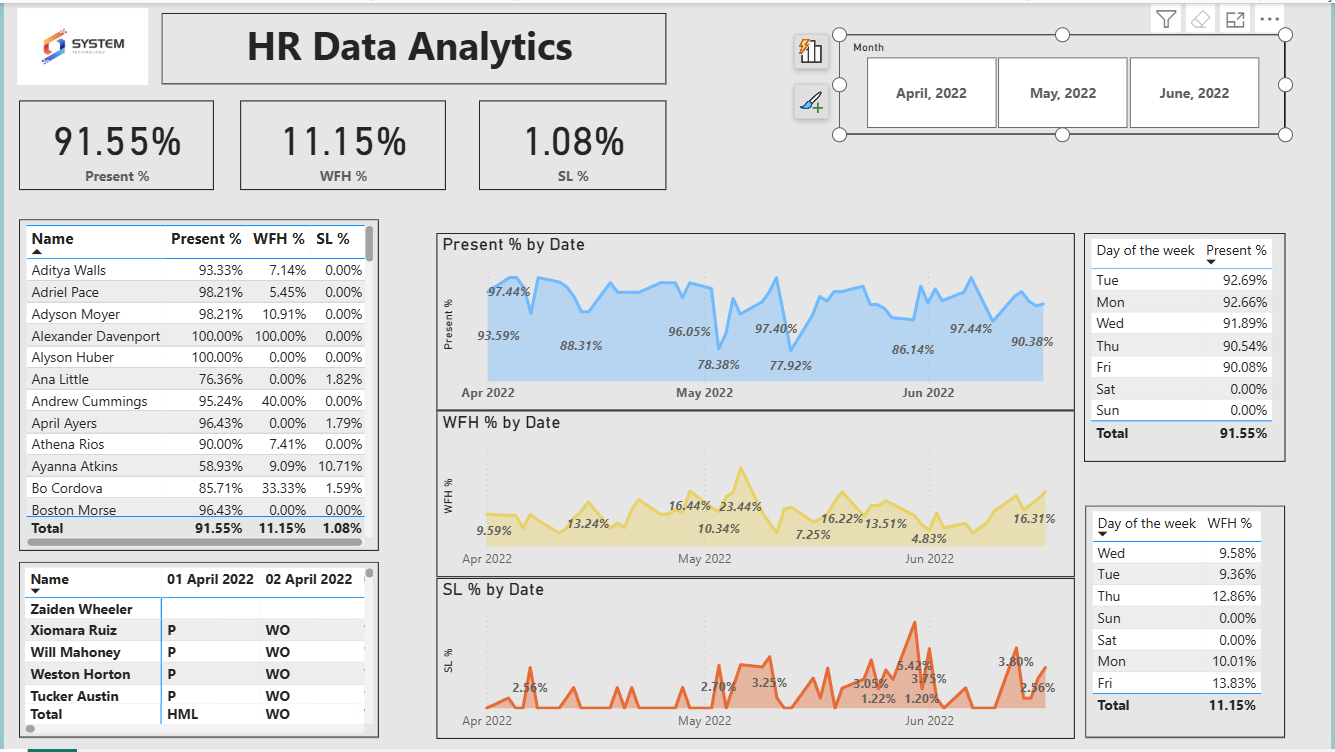

Layout of this report page (visuals, bound fields, positions):
{"tool":"powerbi","page":{"name":"Page 1","canvas":[1280,720],"ordinal":0},"visuals":[{"type":"card","fields":{"Values":["Measure Tabe.Present %"]},"box":[14.7,94.1,188.3,86.8],"z":0},{"type":"slicer","fields":{"Values":["Combined Data.Month"]},"box":[805.6,30.2,430.6,96.5],"z":1000},{"type":"card","fields":{"Values":["Measure Tabe.WFH %"]},"box":[228.6,94.1,198,86.8],"z":2000},{"type":"card","fields":{"Values":["Measure Tabe.SL %"]},"box":[458.4,94.1,180.9,86.8],"z":3000},{"type":"tableEx","fields":{"Values":["Combined Data.Name","Measure Tabe.Present %","Measure Tabe.WFH %","Measure Tabe.SL %"]},"box":[14.7,209,347.2,320.3],"z":4000},{"type":"pivotTable","fields":{"Columns":["Combined Data.Date"],"Rows":["Combined Data.Name"],"Values":["Min(Combined Data.Value)"]},"box":[14.7,539.1,347.2,169.9],"z":5000},{"type":"stackedAreaChart","fields":{"Category":["Combined Data.Date"],"Y":["Measure Tabe.Present %"]},"box":[417.2,222.3,616.1,171.5],"z":6000},{"type":"stackedAreaChart","fields":{"Category":["Combined Data.Date"],"Y":["Measure Tabe.WFH %"]},"box":[417.2,393.8,616.1,160.5],"z":7000},{"type":"stackedAreaChart","fields":{"Category":["Combined Data.Date"],"Y":["Measure Tabe.SL %"]},"box":[417.2,554.4,616.1,155.1],"z":8000},{"type":"tableEx","fields":{"Values":["Combined Data.Day of the week","Measure Tabe.Present %"]},"box":[1042,221.9,194.2,220.7],"z":9000},{"type":"tableEx","fields":{"Values":["Combined Data.Day of the week","Measure Tabe.WFH %"]},"box":[1043.2,484.8,193,224.3],"z":10000},{"type":"textbox","box":[152,9.6,487.2,68.7],"z":11000},{"type":"image","box":[0,0,152,84.4],"z":12000}]}

Visuals, with their boxes in screenshot pixels (x1, y1, x2, y2), scaled from the page's 1280x720 canvas onto the 1335x752 screenshot:
card - Measure Tabe.Present %: x1=15, y1=98, x2=212, y2=189
slicer - Combined Data.Month: x1=840, y1=32, x2=1289, y2=132
card - Measure Tabe.WFH %: x1=238, y1=98, x2=445, y2=189
card - Measure Tabe.SL %: x1=478, y1=98, x2=667, y2=189
tableEx - Combined Data.Name x Measure Tabe.Present %: x1=15, y1=218, x2=377, y2=553
pivotTable - Combined Data.Date x Combined Data.Name: x1=15, y1=563, x2=377, y2=741
stackedAreaChart - Combined Data.Date x Measure Tabe.Present %: x1=435, y1=232, x2=1078, y2=411
stackedAreaChart - Combined Data.Date x Measure Tabe.WFH %: x1=435, y1=411, x2=1078, y2=579
stackedAreaChart - Combined Data.Date x Measure Tabe.SL %: x1=435, y1=579, x2=1078, y2=741
tableEx - Combined Data.Day of the week x Measure Tabe.Present %: x1=1087, y1=232, x2=1289, y2=462
tableEx - Combined Data.Day of the week x Measure Tabe.WFH %: x1=1088, y1=506, x2=1289, y2=741
textbox: x1=159, y1=10, x2=667, y2=82
image: x1=0, y1=0, x2=159, y2=88
